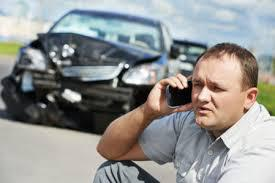bonnet-dent: (42, 28, 138, 75)
front-bumper-dent: (18, 78, 124, 111)
